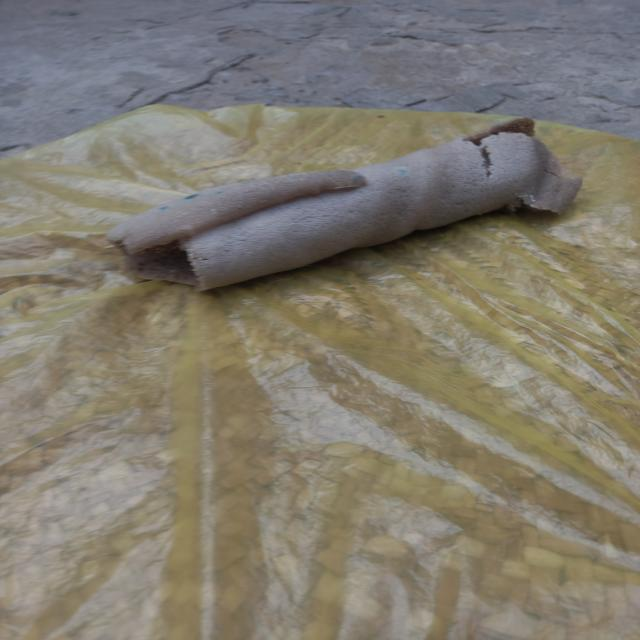injera_mold: (528, 193, 536, 206), (185, 194, 201, 200), (353, 174, 363, 182), (157, 206, 170, 211), (396, 168, 406, 174), (214, 191, 223, 194), (242, 182, 250, 184), (210, 209, 218, 211), (182, 213, 189, 214)
